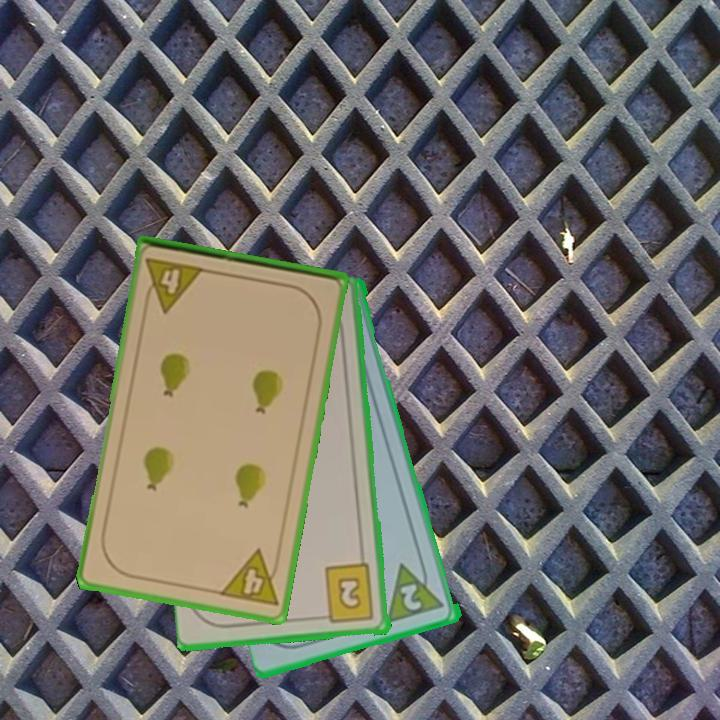2b: (316, 561, 377, 626)
2p: (397, 580, 426, 614)
4p: (216, 546, 284, 609), (140, 254, 207, 315)
